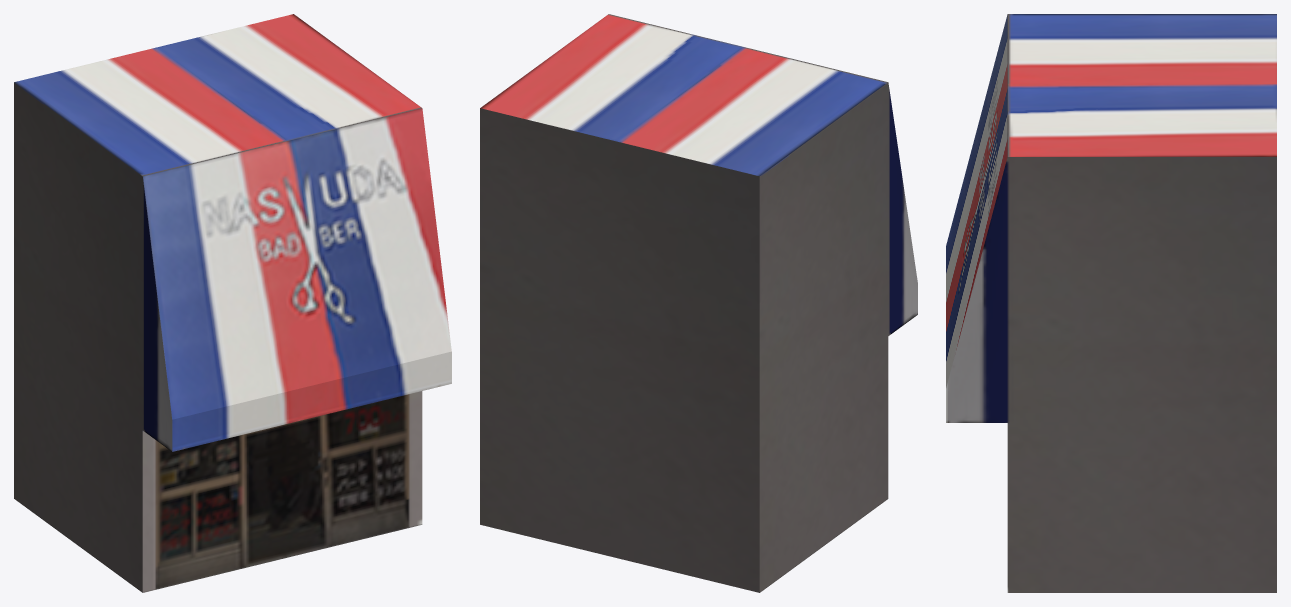
Rendered from nasuda.FBX.
The picture shows the model from 3 angles, left to right: view 1: azimuth 30°, elevation 25°; view 2: azimuth 150°, elevation 25°; view 3: azimuth 270°, elevation 25°; orthographic projection. The views are drawn at different scales.
Parts seen in each view (by area): view 1: MASUDA; view 2: MASUDA; view 3: MASUDA.
Part boxes in pixels (left/top/right/bottom): MASUDA: left=14, top=14, right=451, bottom=592; MASUDA: left=480, top=14, right=917, bottom=592; MASUDA: left=946, top=14, right=1276, bottom=592.
Bounding box in the file's own units: 370 × 527 × 362.
Materials: 1 (1 with a texture image).
